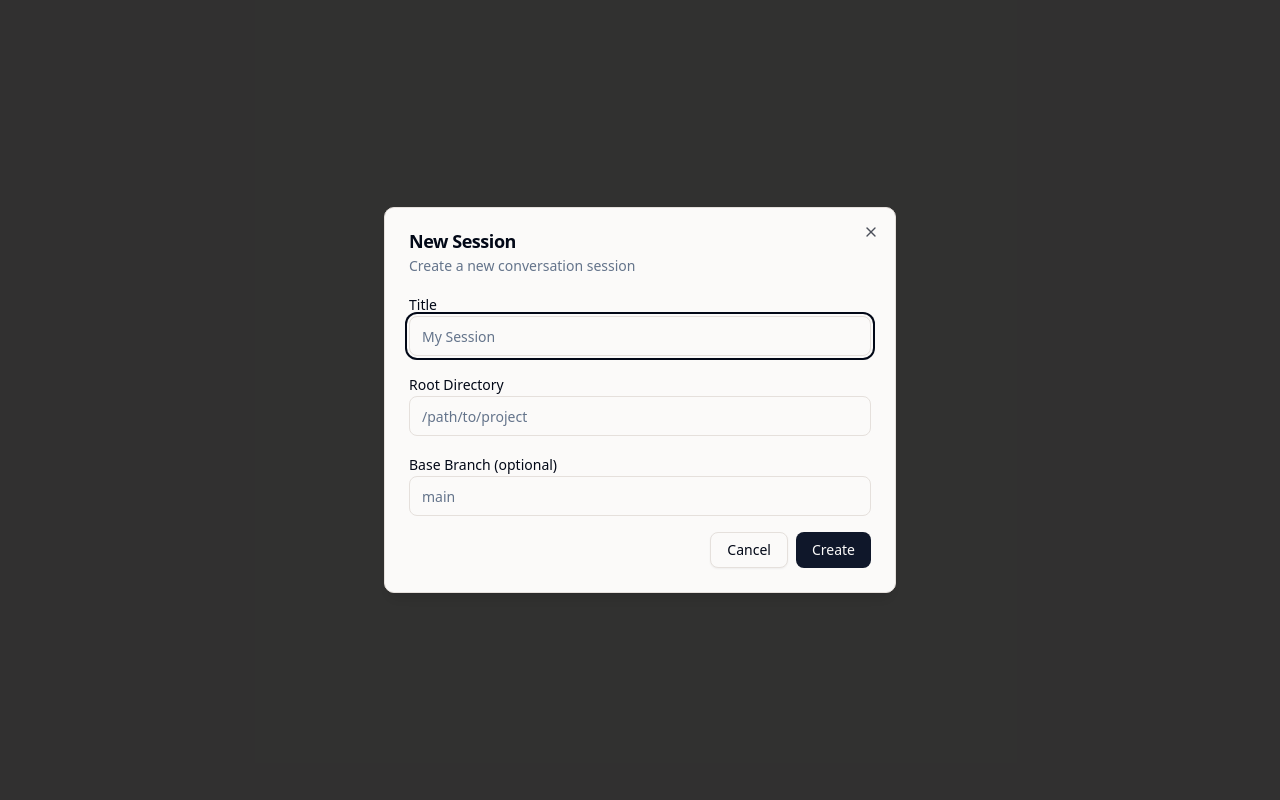
Test: NewSessionDialog › should show error message on creation failure
Type "Test Session" into the field labelled "Title" at point(640, 336), box [409, 316, 871, 356]
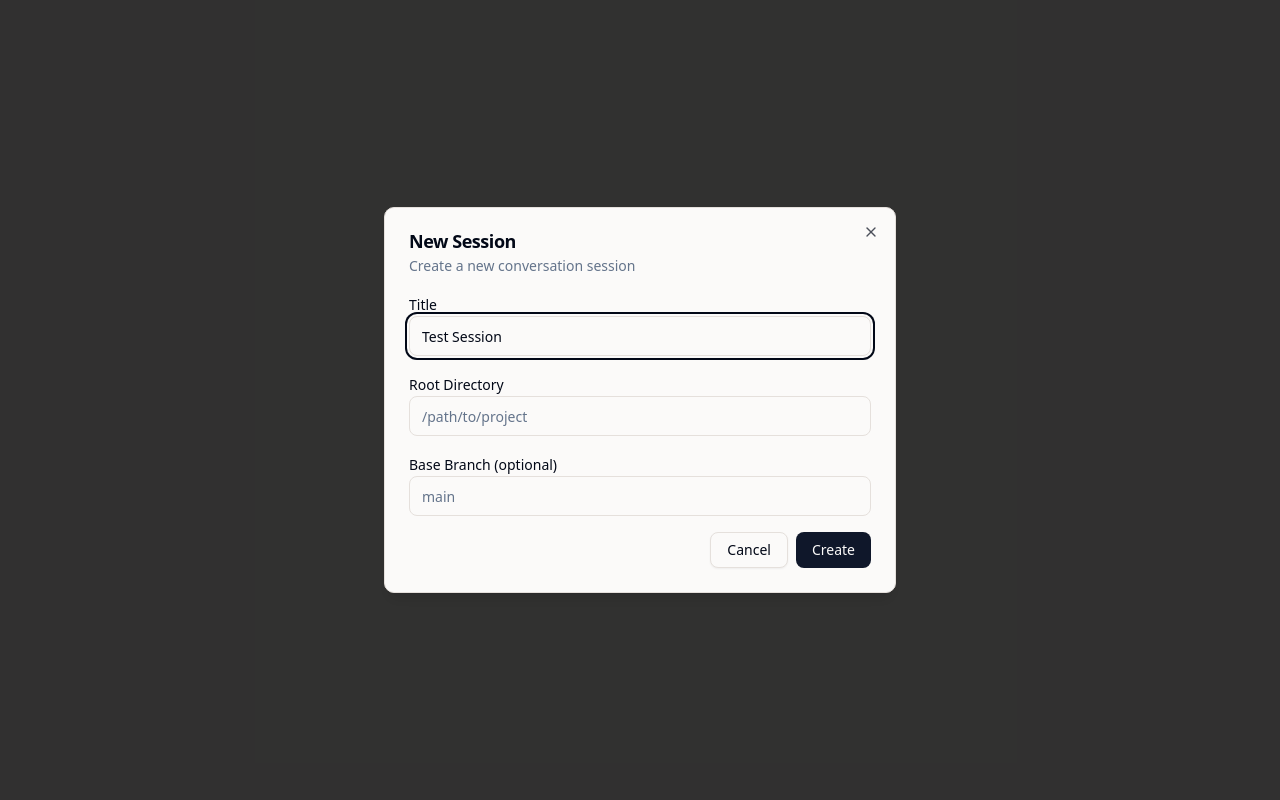
Type "/test/path" into the field labelled "Root Directory" at point(640, 416), box [409, 396, 871, 436]
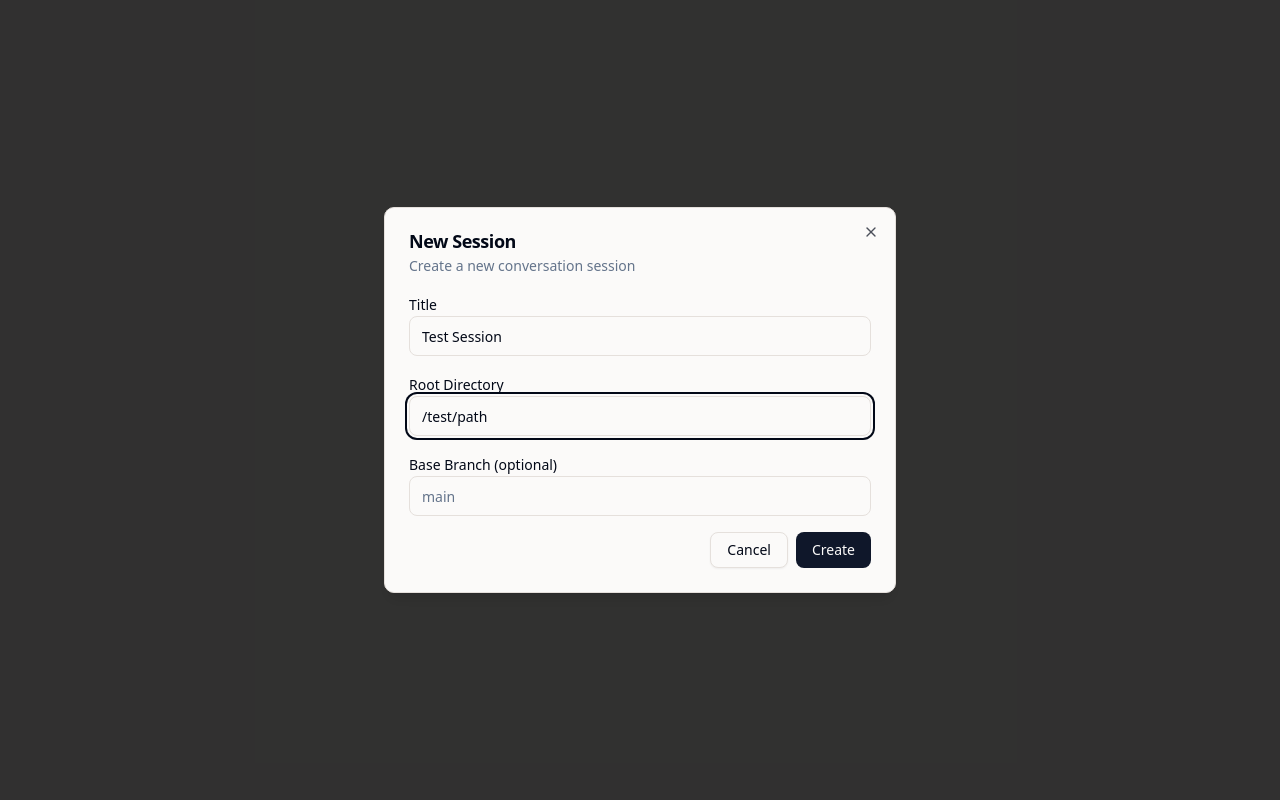
Click the button "Create" at point(833, 550), box [796, 532, 871, 568]
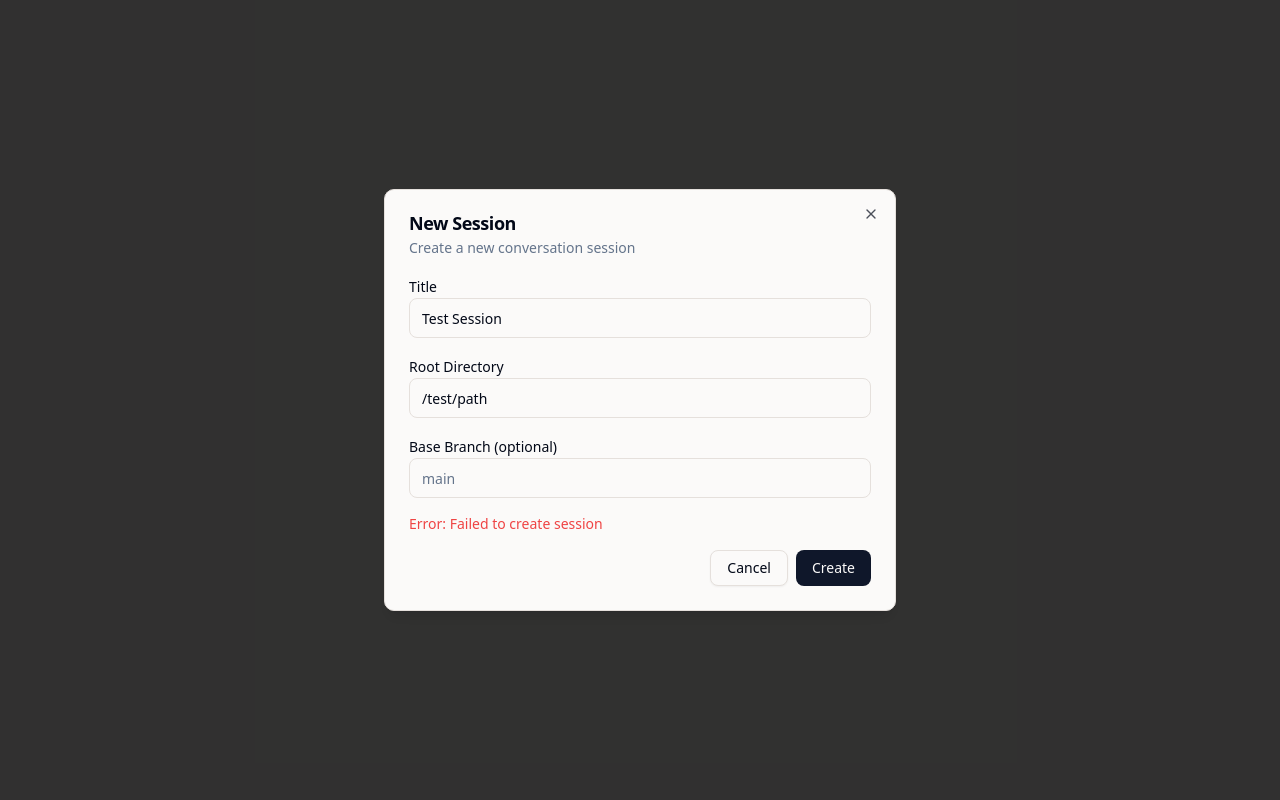
Result: the text "Error: Failed to create session" is shown at [409, 514, 603, 533]
